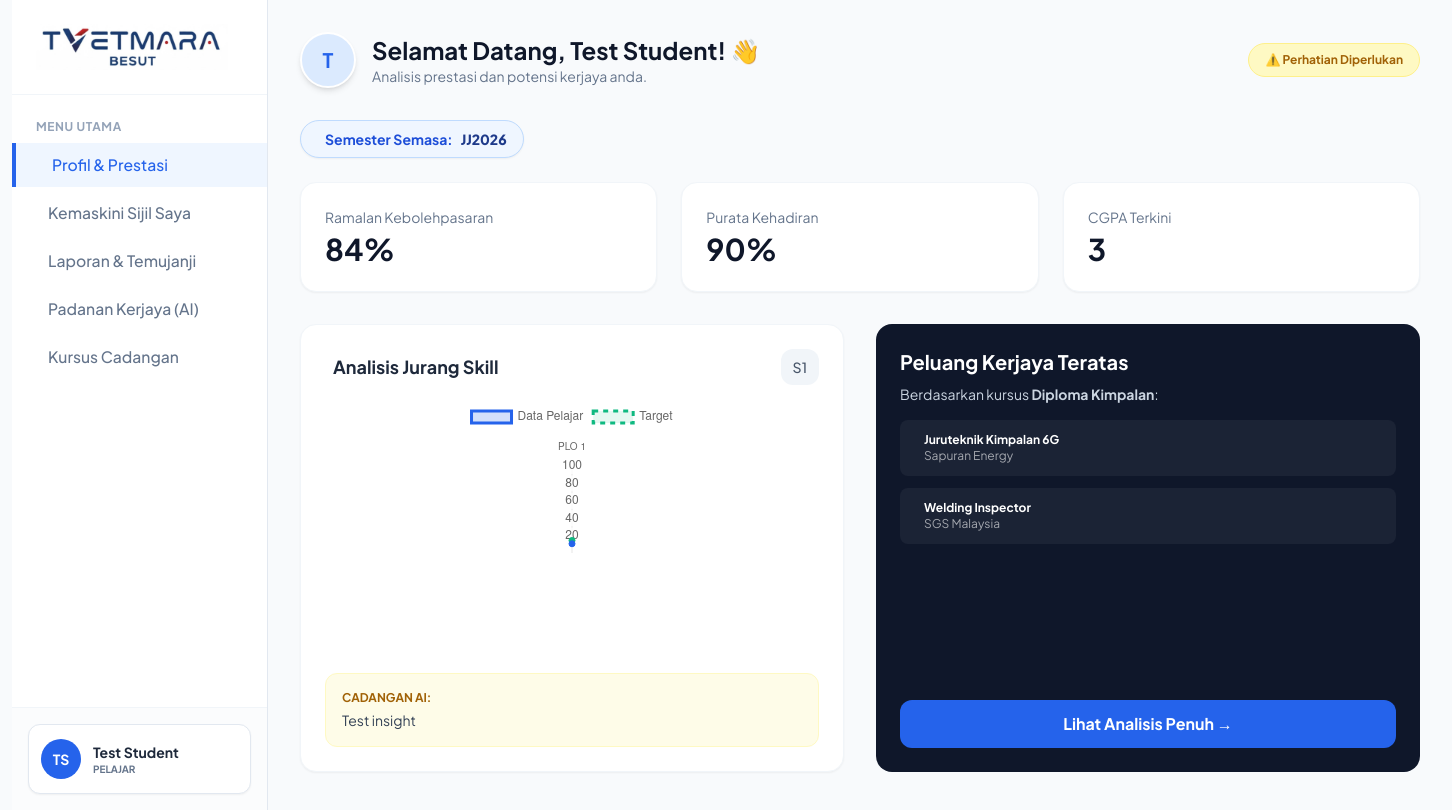
Test case: career tab › keeps automatic recommendations and searches through the same-origin proxy
The width and height of the screenshot is (1452, 810).
Expected: the text "Test insight" is shown, [342,711,416,729]
Click the button "Padanan Kerjaya (AI)": (140, 309) [12,287,267,331]
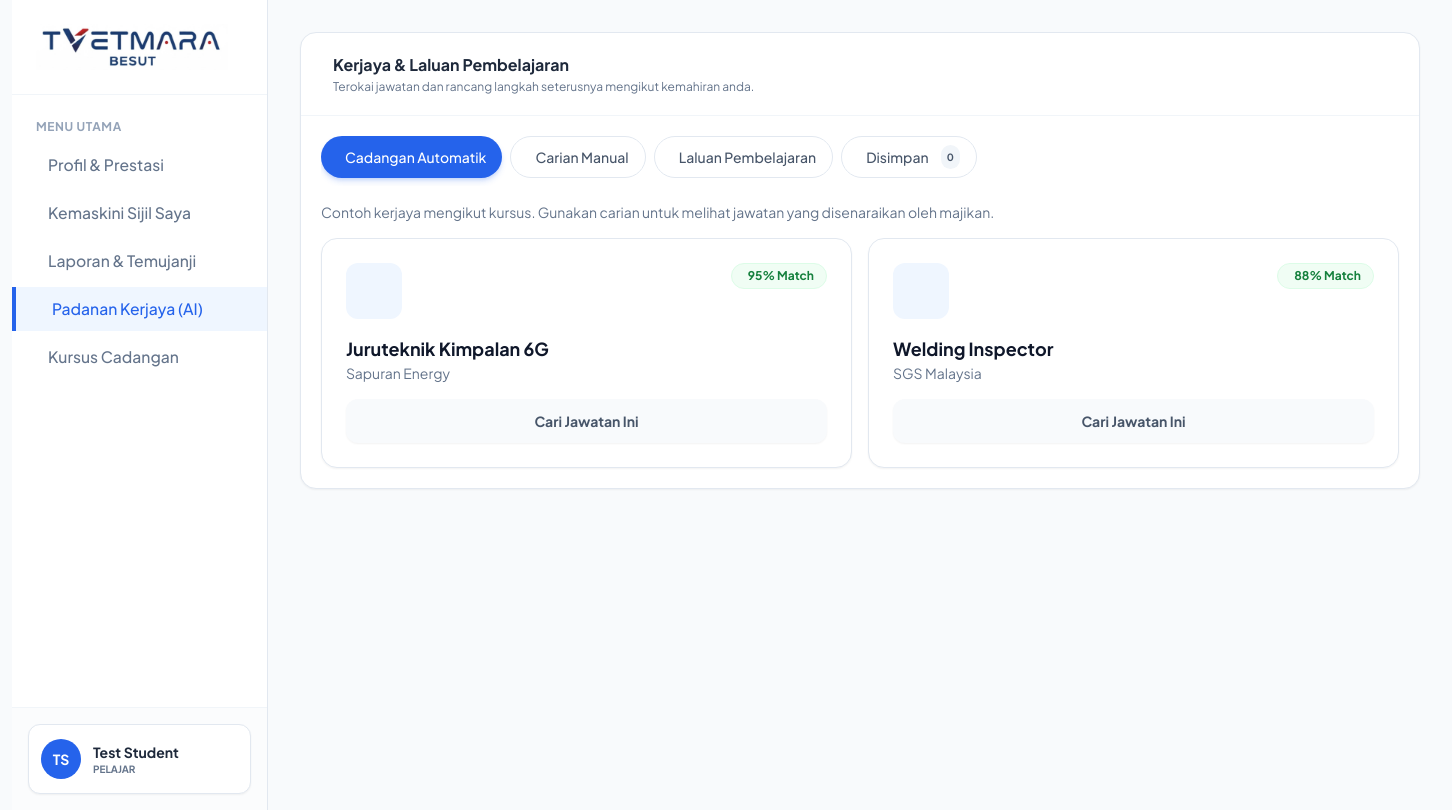
Click the button "Carian Manual": (578, 157) [510,136,646,178]
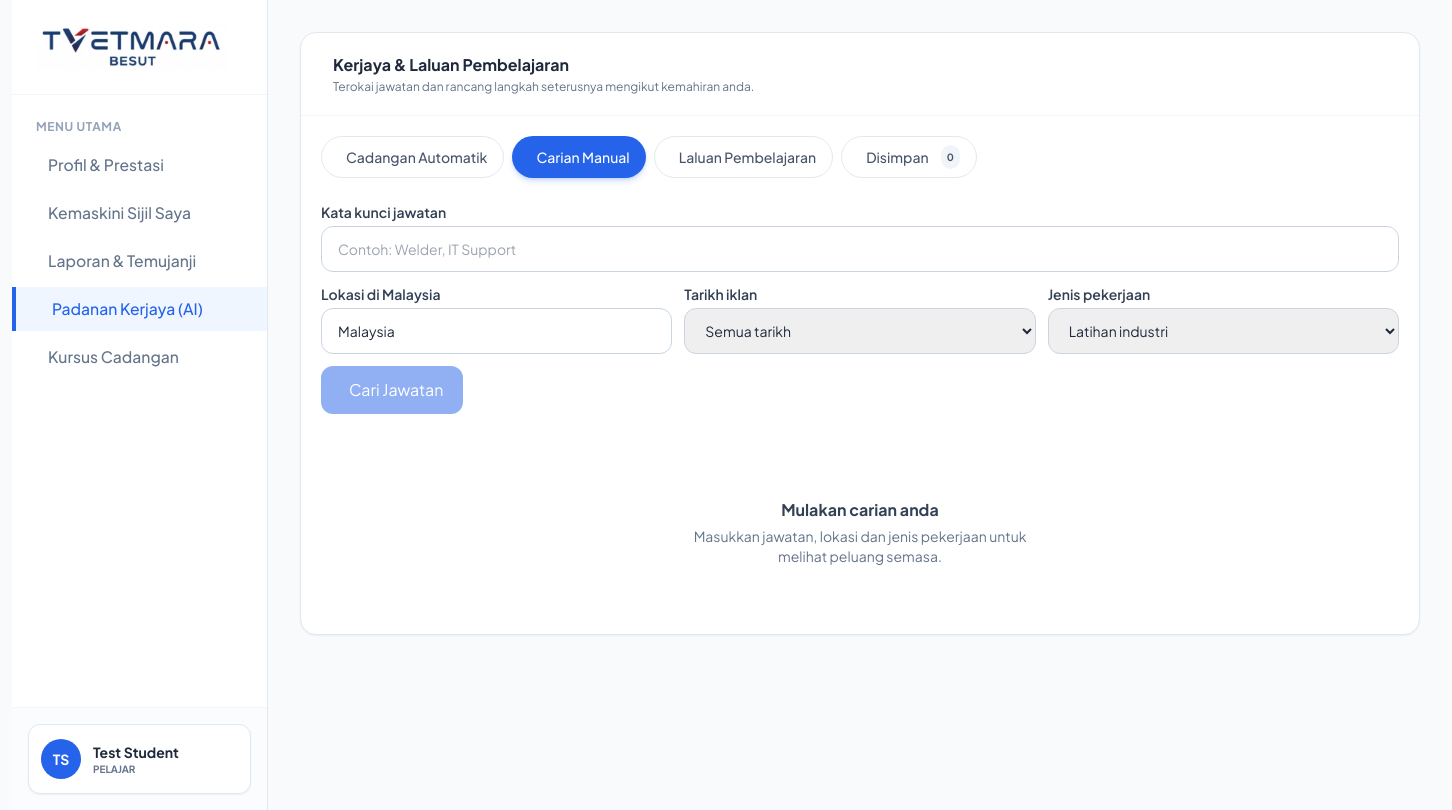
Expected: the heading "Mulakan carian anda" is shown, [781,498,939,522]
In the dropdown labelled "Kata kunci jawatan": (860, 249) [321,226,1399,272], type "Welder"
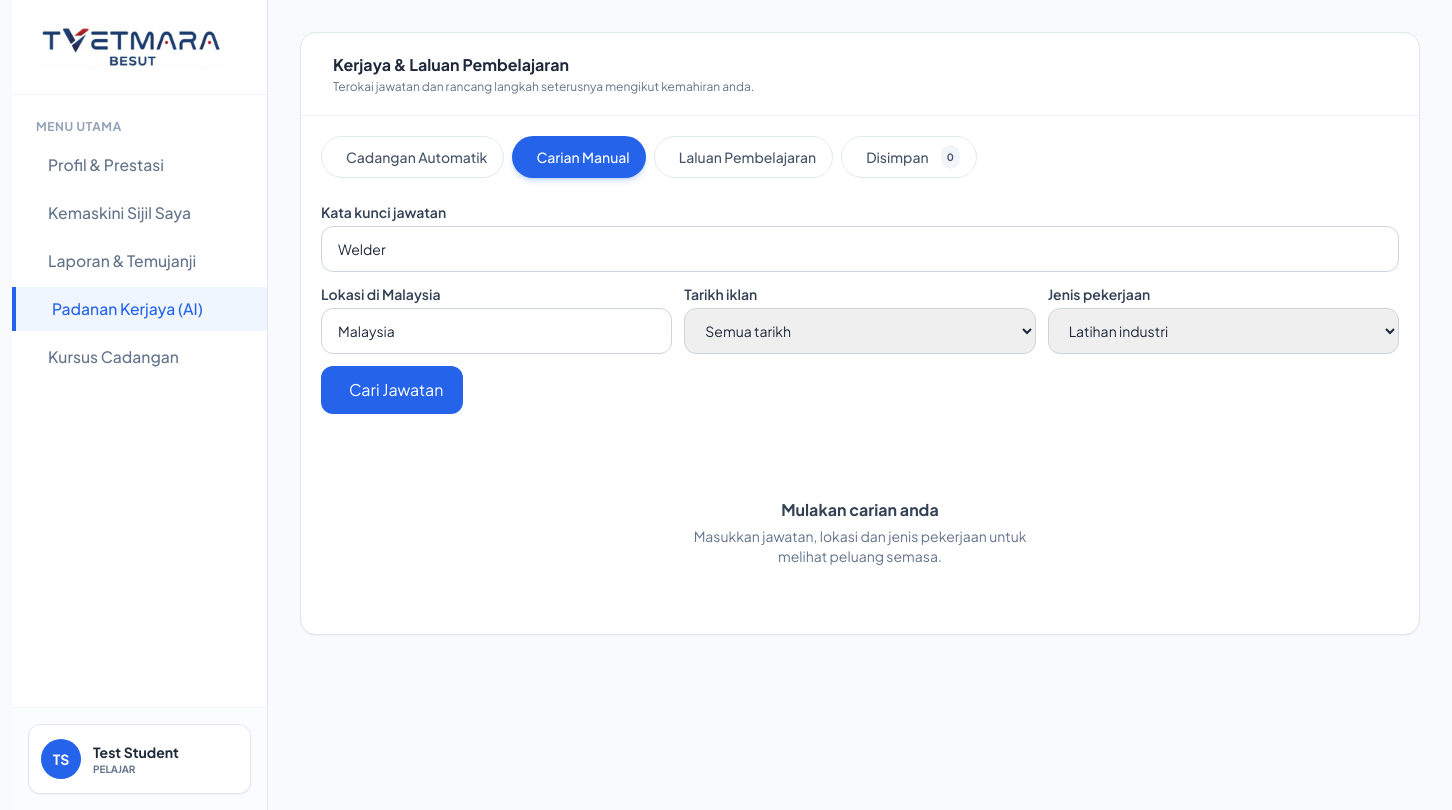
Click the button "Cari Jawatan": (392, 390) [321,366,463,414]
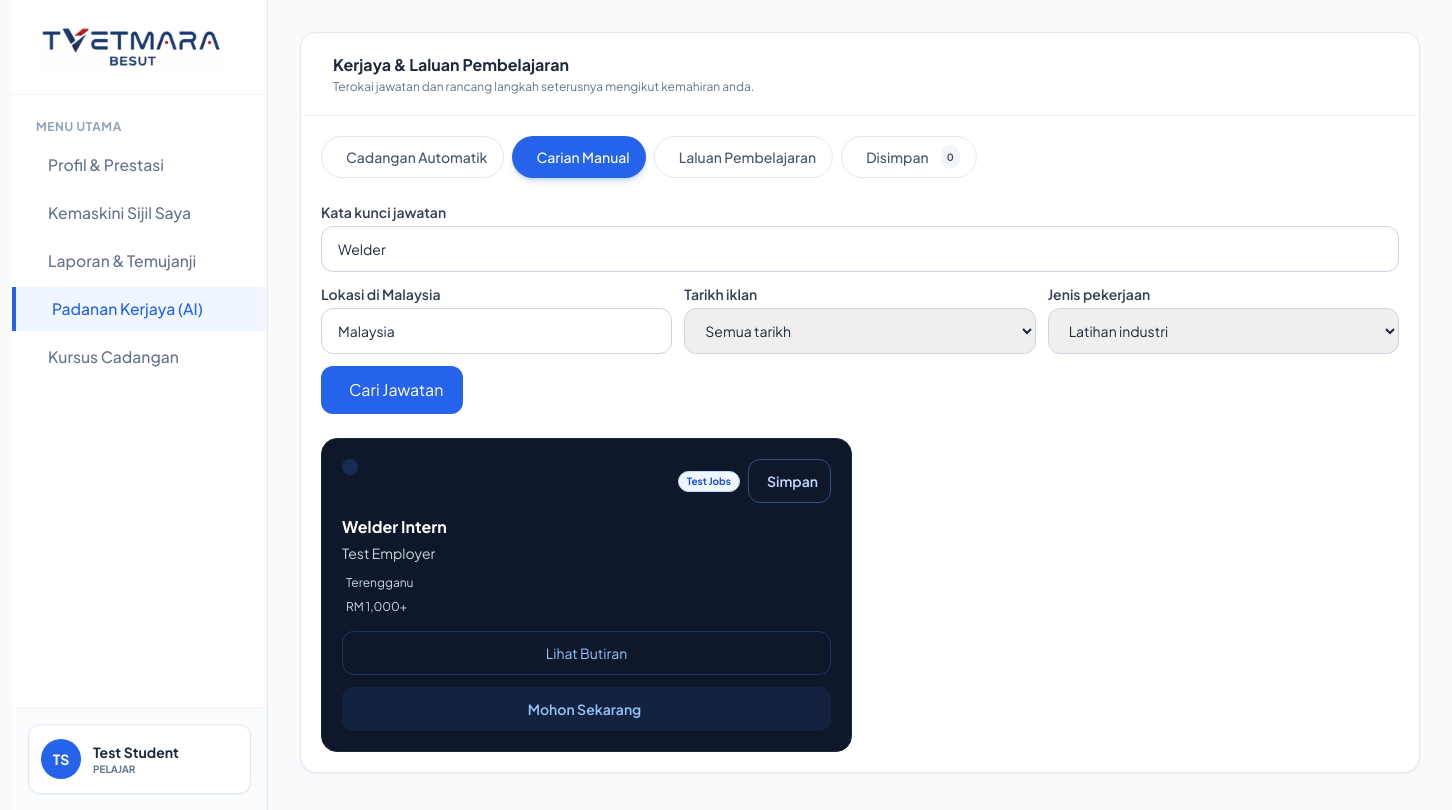
Click the button "Cadangan Automatik": (413, 157) [321,136,504,178]
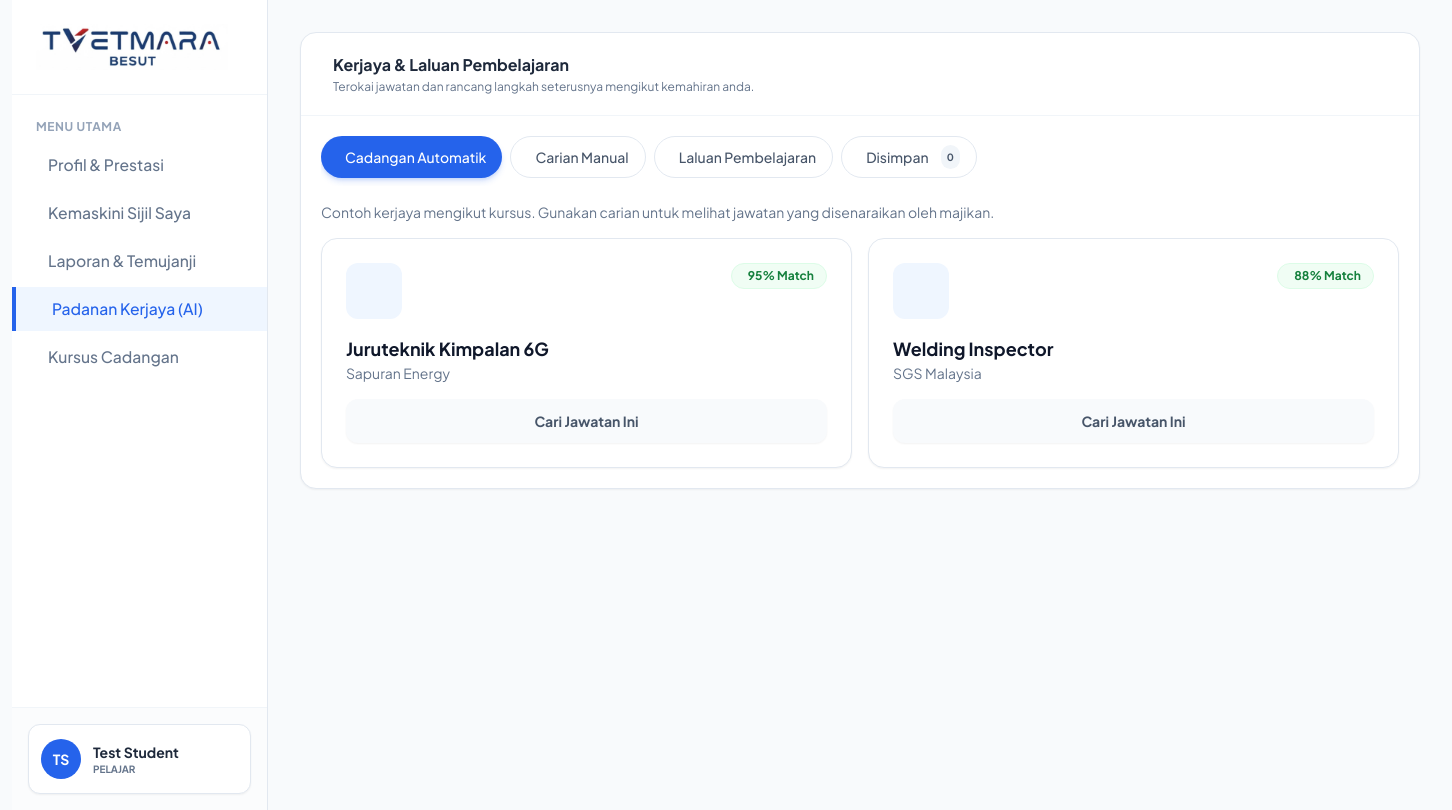
Expected: the heading "Juruteknik Kimpalan 6G" is shown, [346,337,549,360]
Expected: the text "Test Employer" is gone
